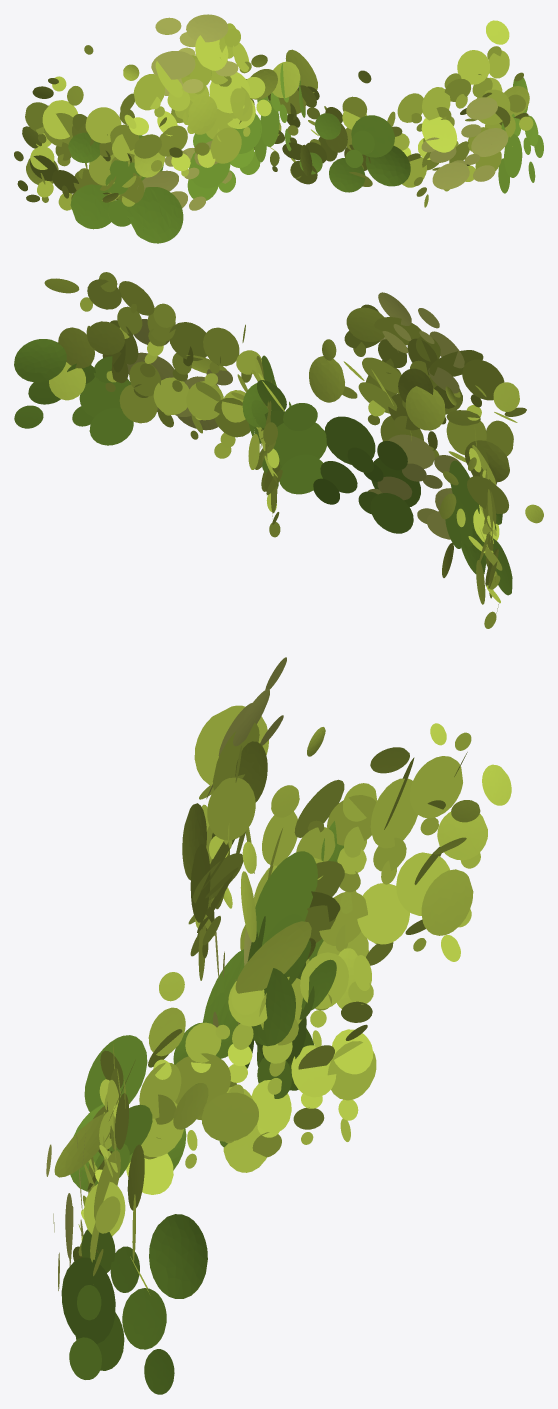
The model's file is Moss.009.fbx.
3 views of the same model, one above another, from view 1: azimuth 30°, elevation 25°; view 2: azimuth 150°, elevation 25°; view 3: azimuth 270°, elevation 25° (orthographic). The views are drawn at different scales.
Parts seen in each view (by area): view 1: Moss.009_Baked; view 2: Moss.009_Baked; view 3: Moss.009_Baked.
Boxes of the visible parts, x1=… form: Moss.009_Baked: x1=14, y1=14, x2=543, y2=243; Moss.009_Baked: x1=14, y1=272, x2=543, y2=628; Moss.009_Baked: x1=46, y1=657, x2=511, y2=1394.
Bounding box in the file's own units: 39.24 × 17.52 × 17.46.
1 material, 1 textured.
